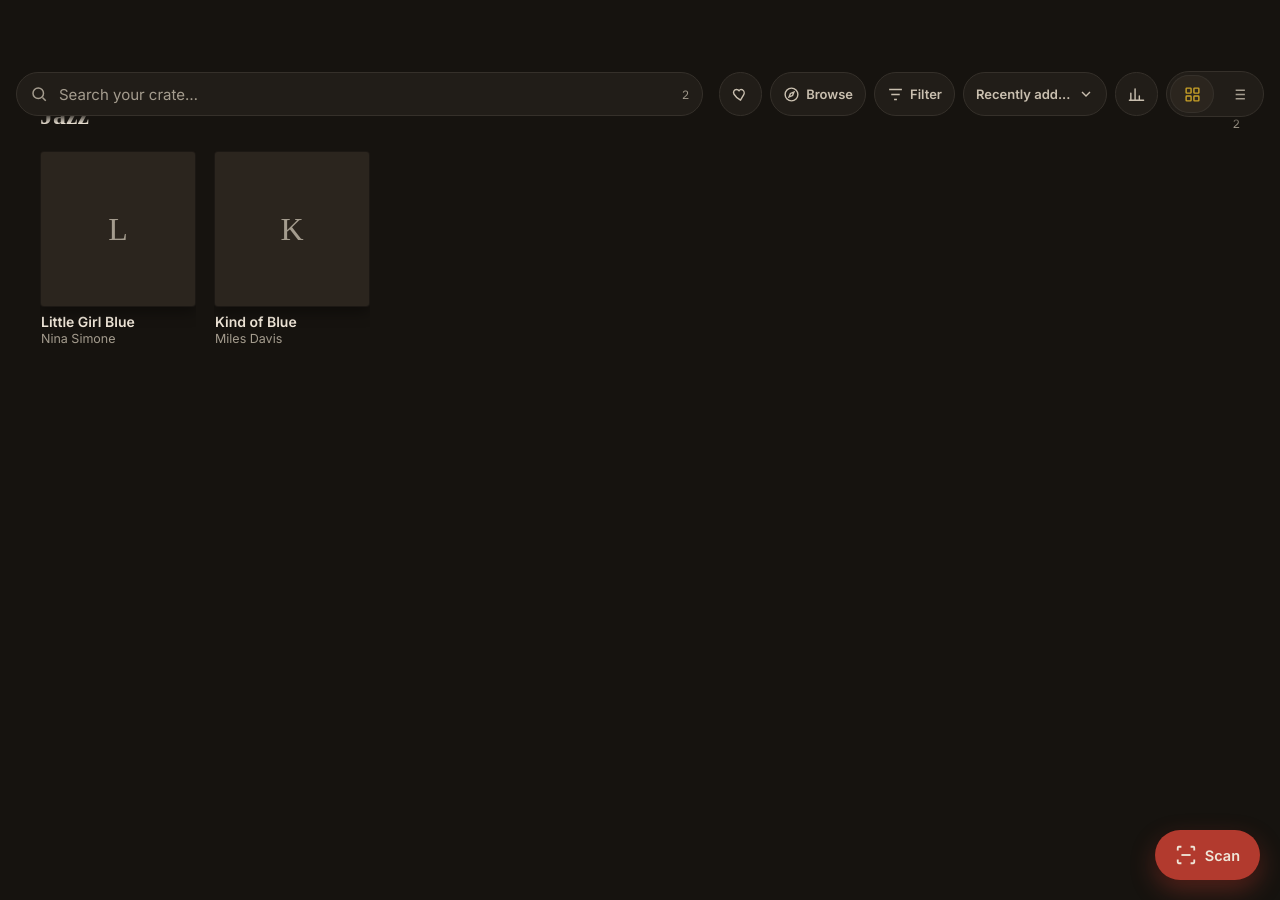
Test: Grid|List view toggle › switches from the grid to the list and remembers the choice per kind
Check: the number of buttons "L Little Girl Blue Nina Simone" is 2, box [40, 151, 196, 346]; [214, 151, 370, 346]
Step 1. Click the button named "List view" → {"x": 1238, "y": 94}, box [1216, 75, 1260, 113]
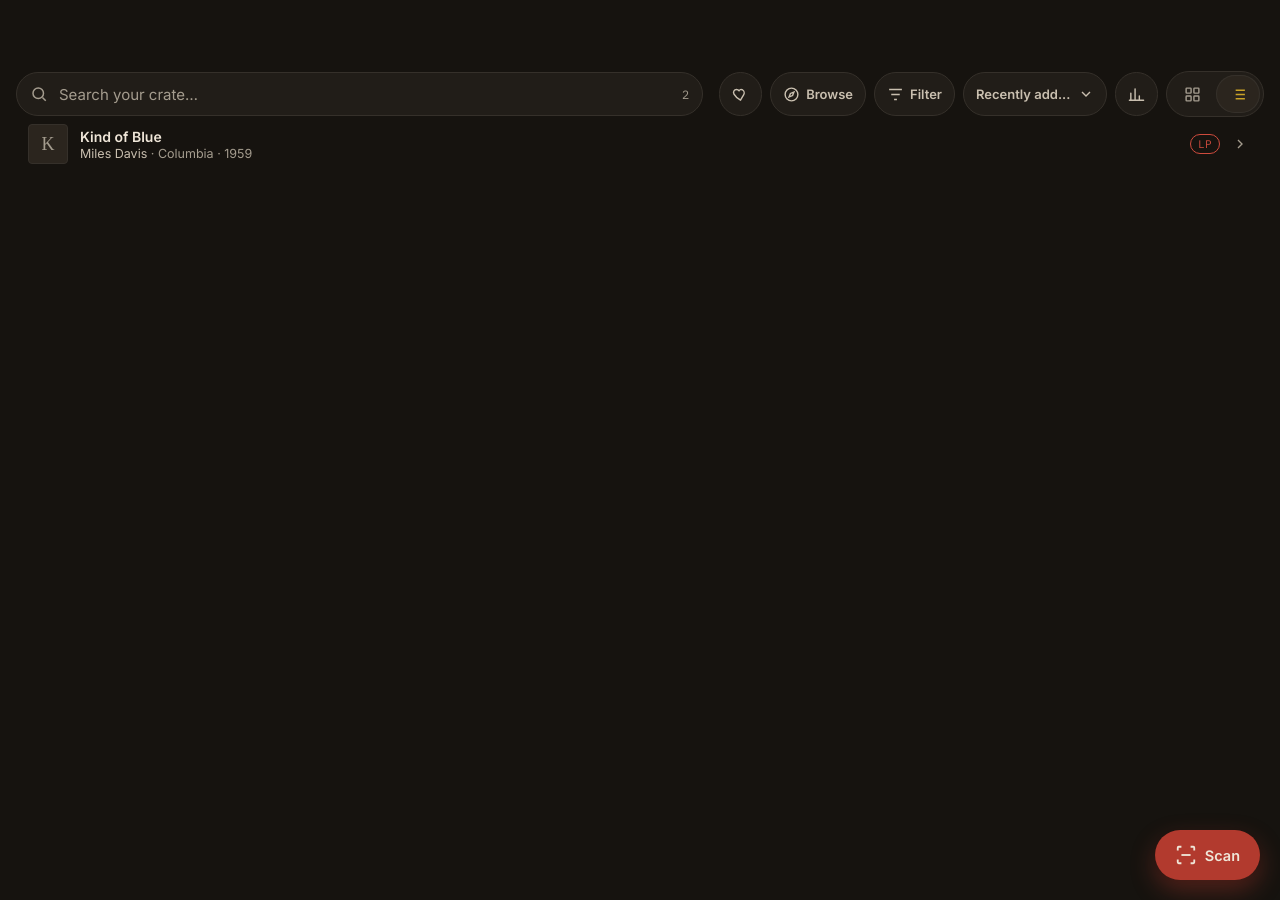
Check: the button with aria-label "Miles Davis — Kind of Blue" is shown, box [16, 116, 1260, 172]
Check: the button with aria-label "Nina Simone — Little Girl Blue" is shown, box [16, 60, 1260, 116]
Check: the number of buttons "L Little Girl Blue Nina Simone · Bethlehem · 1958 LP" is 2, box [16, 60, 1260, 116]; [16, 116, 1260, 172]
